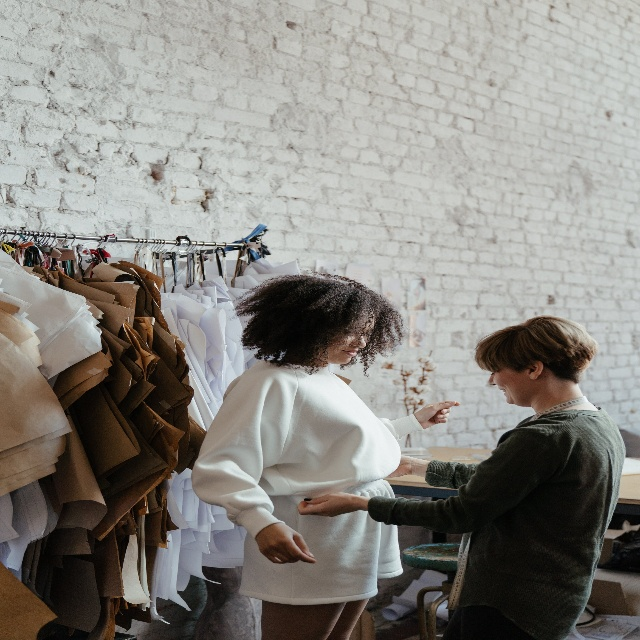Sin_guantes: (256, 522, 316, 565), (297, 491, 357, 517), (415, 400, 460, 429), (387, 454, 411, 479)
